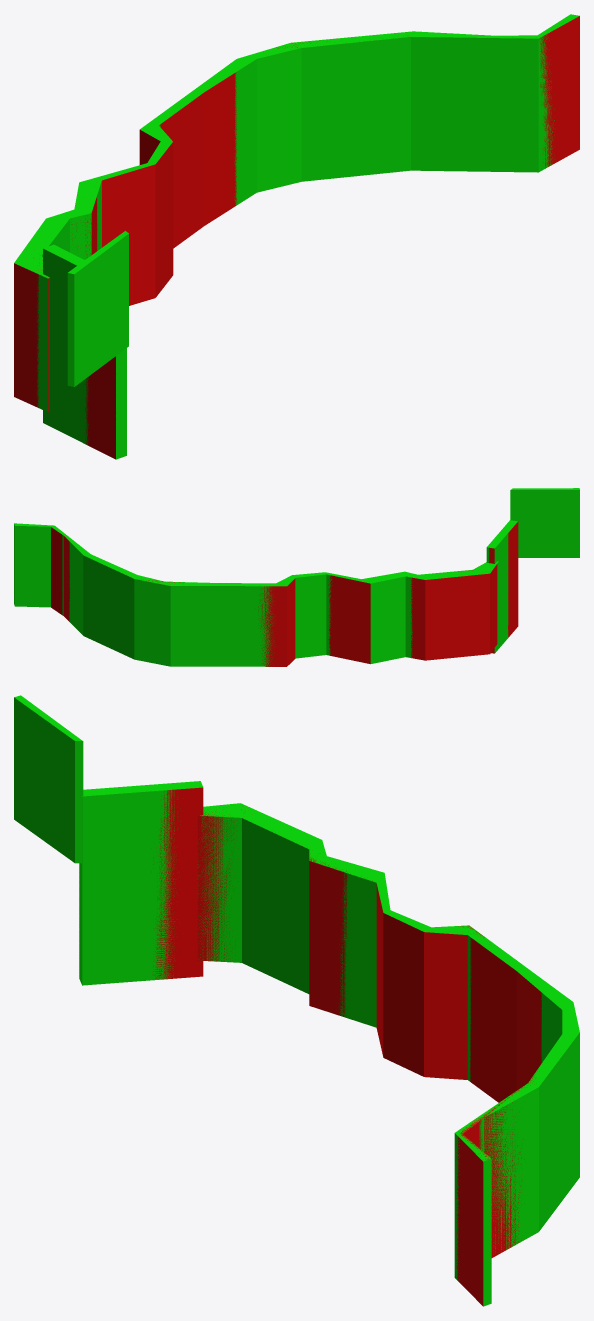
Rendered from InvisibleWall_008.fbx.
3 views of the same model, one above another, from view 1: azimuth 30°, elevation 25°; view 2: azimuth 150°, elevation 25°; view 3: azimuth 270°, elevation 25° (orthographic). The views are drawn at different scales.
Parts seen in each view (by area): view 1: Designer137, InvisibleWall_008_Phys, Designer130, Designer56; view 2: Designer137, InvisibleWall_008_Phys, Designer130, Designer56; view 3: InvisibleWall_008_Phys, Designer137, Designer56, Designer130.
Boxes of the visible parts, x1,y1,x2,y2 form: Designer137: [14, 14, 579, 411]; InvisibleWall_008_Phys: [14, 16, 579, 459]; Designer130: [67, 231, 128, 386]; Designer56: [43, 244, 126, 459]; Designer137: [14, 523, 498, 666]; InvisibleWall_008_Phys: [51, 521, 518, 666]; Designer130: [510, 488, 579, 557]; Designer56: [486, 520, 517, 653]; InvisibleWall_008_Phys: [79, 787, 541, 1306]; Designer137: [197, 803, 579, 1306]; Designer56: [79, 781, 203, 985]; Designer130: [14, 695, 83, 863].
Bounding box in the file's own units: 9845 × 2917 × 6136.
